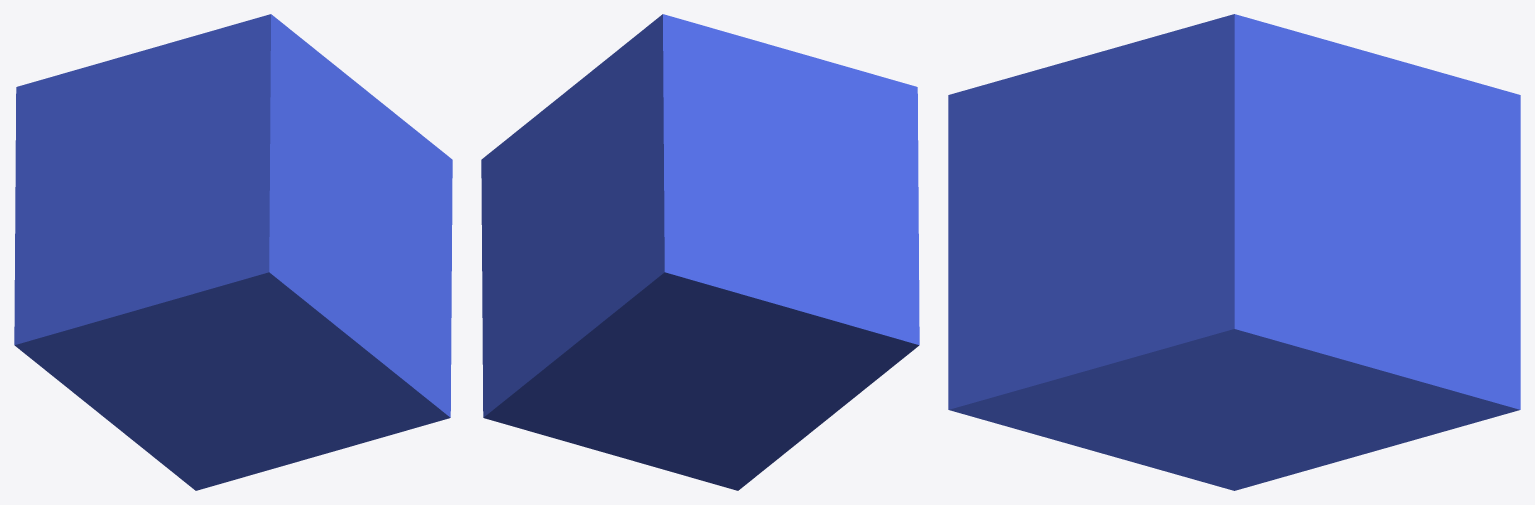
Rendered from LoadBalancer.glb.
3 renders of one model, left to right at view 1: azimuth 30°, elevation 25°; view 2: azimuth 150°, elevation 25°; view 3: azimuth 270°, elevation 25°, orthographic. The views are drawn at different scales.
Parts seen in each view (by area): view 1: Cube; view 2: Cube; view 3: Cube.
Part boxes in pixels (x1,y1,x2,y2): Cube: (14, 14, 452, 490); Cube: (481, 14, 919, 490); Cube: (948, 14, 1520, 490).
Size of the model in its own units: 0.5 by 0.5 by 0.5.
